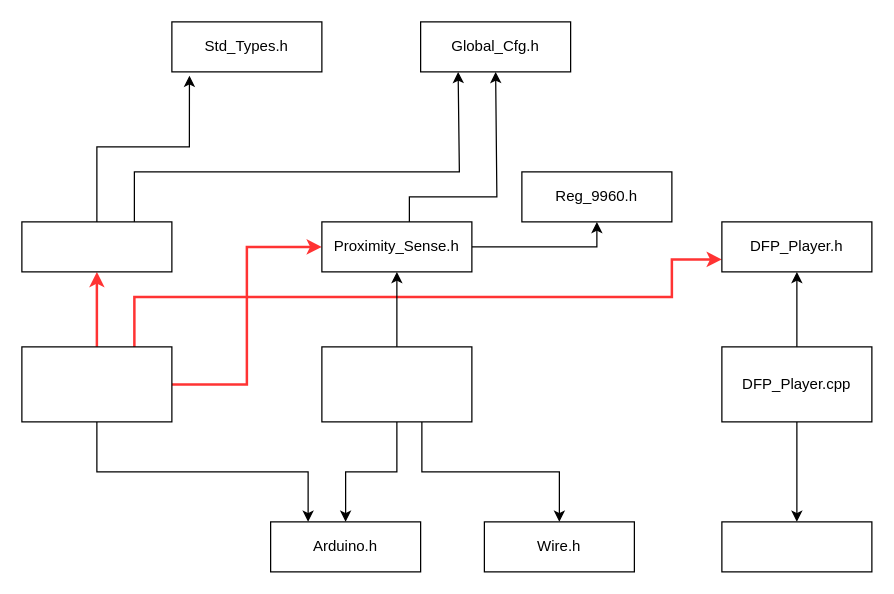
Some shapes in this 894 by 594 pixel diagram are drawn without their labels. The shapes that lost their labels are listed below. From the top down, each one's centre as x and y in pixels, then its label:
At point (96, 246): "Driver_Assist.h".
At point (96, 384): "Driver_Assist.ino".
At point (396, 384): "Proximity_Sense.cpp".
At point (796, 546): "Serial.h".
